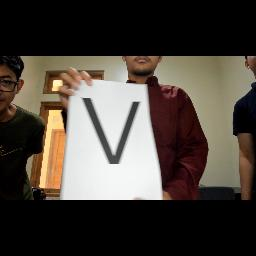v: (78, 92, 146, 170)
